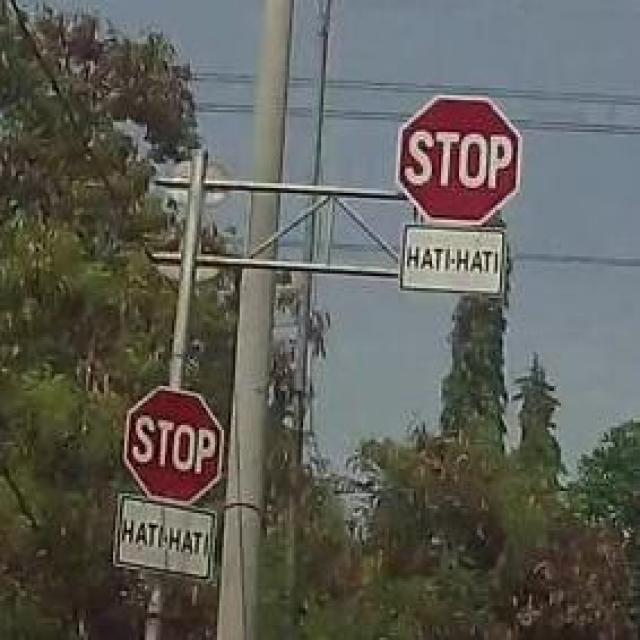traffic sign: (405, 93, 520, 222), (127, 386, 218, 506)
